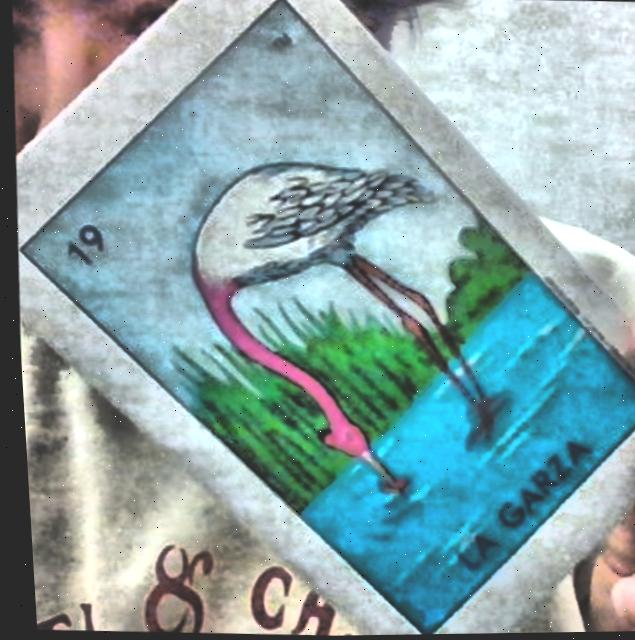El Garza: (17, 0, 635, 636)
